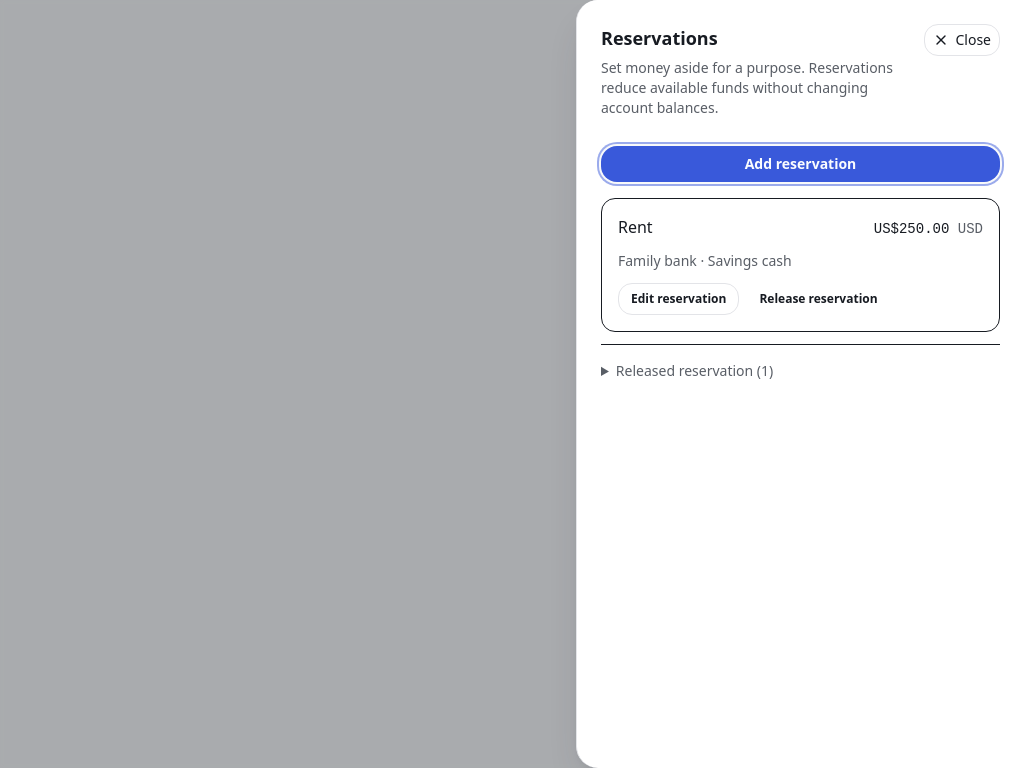
Test: Reservation management › keeps released records collapsed and shows release feedback
The width and height of the screenshot is (1024, 768).
Expected: the text "Rent" is shown, [618,215,653,239]
Expected: the text "Previous plan" is not shown
Click the heading "Released reservation (1)" at (694, 370), box [616,361,773,380]
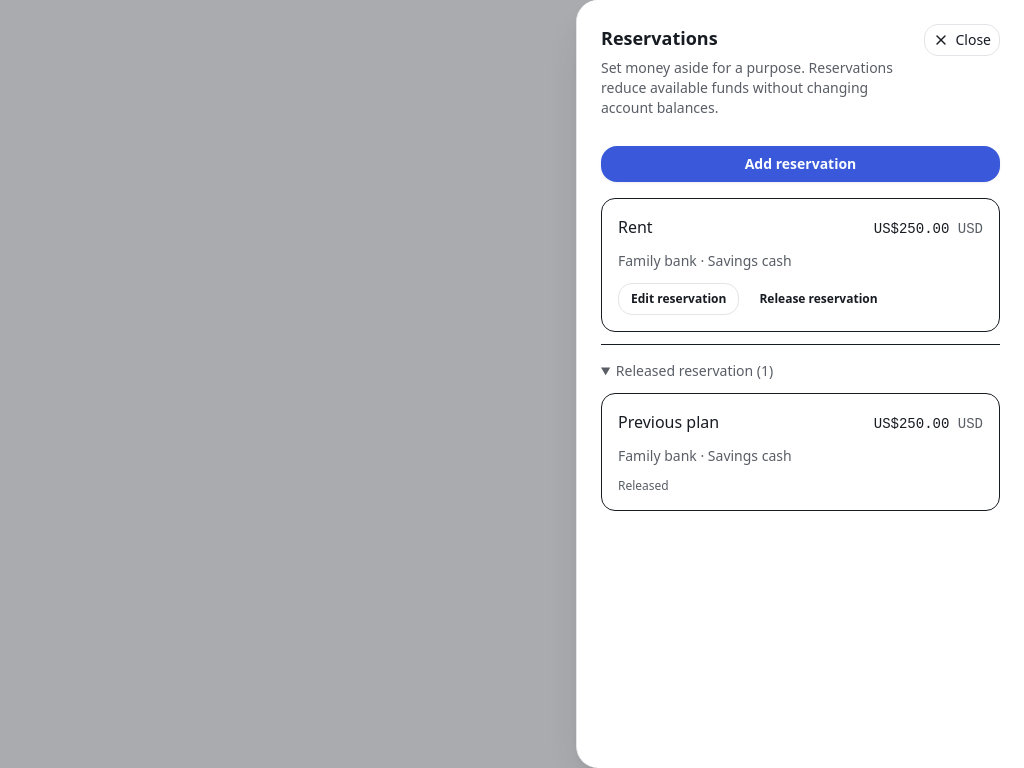
Expected: the text "Previous plan" is shown, [618,410,719,434]
Click the button "Release reservation" at (819, 299), box [747,283,890,315]
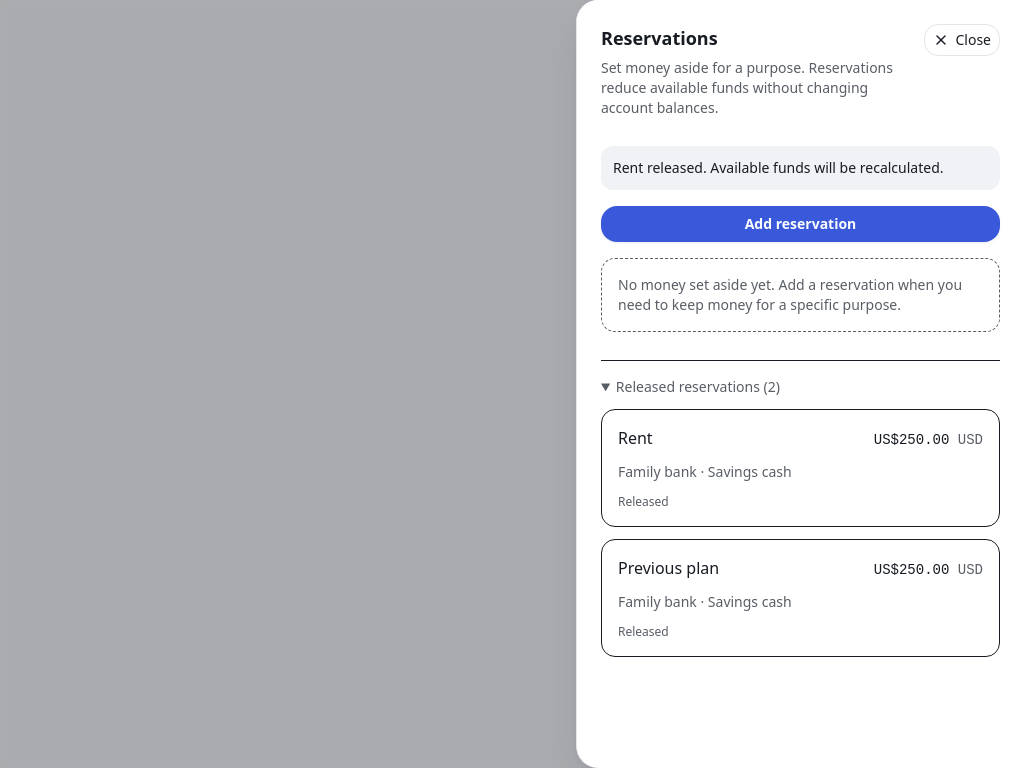
Expected: the message shows "Rent", [613,158,944,177]
Expected: the button "Release reservation" is gone
